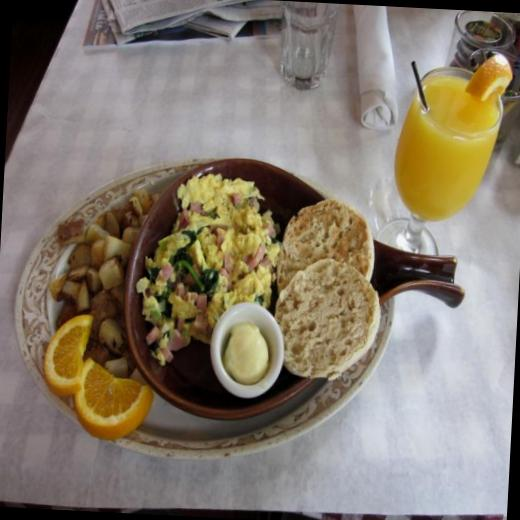Grape: (70, 353, 157, 442), (40, 319, 90, 399)
